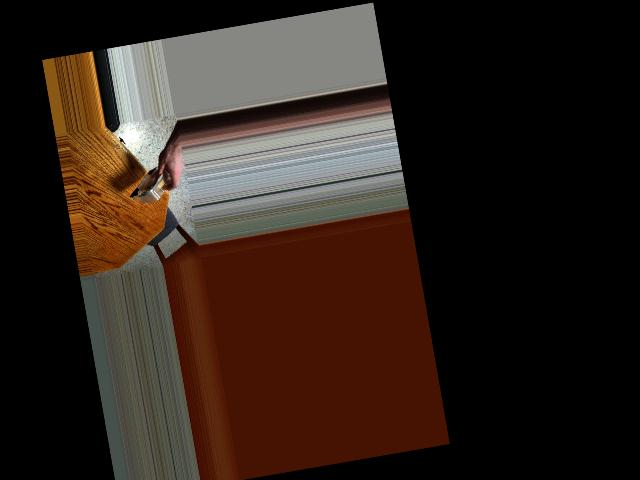cheese: (129, 158, 177, 214)
